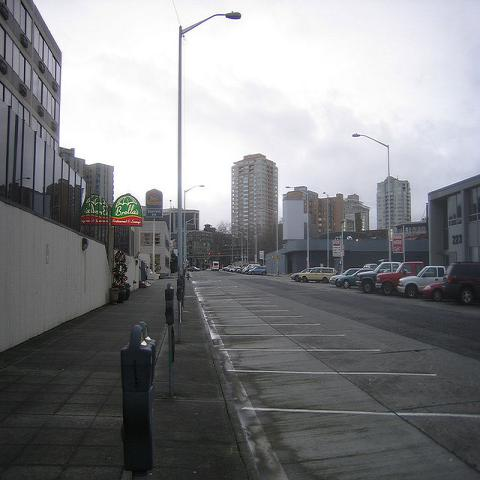bus: (210, 257, 219, 271)
car: (422, 262, 480, 306), (338, 268, 374, 288), (330, 268, 361, 287), (297, 268, 333, 282), (290, 268, 311, 283), (255, 265, 267, 276), (248, 268, 256, 274)
truck: (374, 259, 423, 295), (398, 265, 446, 299), (354, 261, 401, 294)
